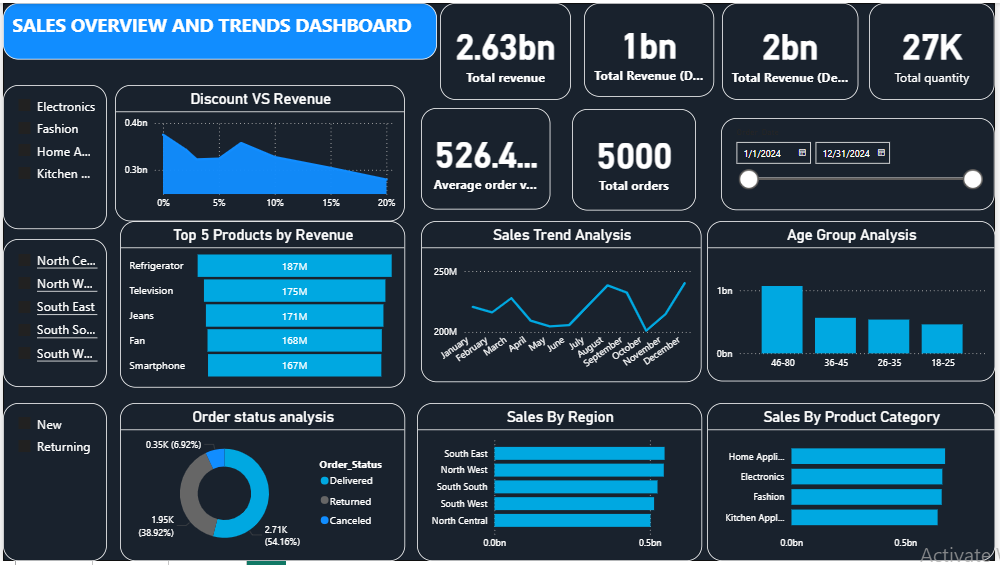

The page's visual inventory and layout, read from the dashboard file:
{"tool":"powerbi","page":{"name":"Page 3","canvas":[1280,720],"ordinal":2},"visuals":[{"type":"card","fields":{"Values":["fixed_sales_dataset_FINAL.Total revenue"]},"box":[564.3,0,169.3,125.2],"z":0},{"type":"donutChart","title":"Order status analysis","fields":{"Category":["fixed_sales_dataset_FINAL.Order_Status"],"Y":["CountNonNull(fixed_sales_dataset_FINAL.Order_ID)"]},"box":[151.4,516.2,367.6,204.1],"z":1000},{"type":"funnel","title":"Top 5 Products by Revenue","fields":{"Category":["fixed_sales_dataset_FINAL.Product_Name"],"Y":["Sum(fixed_sales_dataset_FINAL.Revenue)"]},"box":[151.4,281.1,367.6,214.9],"z":2000},{"type":"areaChart","title":"Discount VS Revenue","fields":{"Category":["fixed_sales_dataset_FINAL.Discount"],"Y":["Sum(fixed_sales_dataset_FINAL.Revenue)"]},"box":[144.6,105.4,374.3,175.7],"z":3000},{"type":"clusteredBarChart","title":"Sales By Product Category","fields":{"Category":["fixed_sales_dataset_FINAL.Product_Category"],"Y":["Sum(fixed_sales_dataset_FINAL.Revenue)"]},"box":[908.1,516.2,371.6,204.1],"z":4000},{"type":"lineChart","title":"Sales Trend Analysis","fields":{"Category":["fixed_sales_dataset_FINAL.Order_Date.Variation.Date Hierarchy.Month"],"Y":["Sum(fixed_sales_dataset_FINAL.Revenue)"]},"box":[539.2,281.1,362.2,208.1],"z":5000},{"type":"columnChart","title":"Age Group Analysis","fields":{"Category":["fixed_sales_dataset_FINAL.Age_group"],"Y":["Sum(fixed_sales_dataset_FINAL.Revenue)"]},"box":[908.1,281.1,371.6,206.8],"z":6000},{"type":"clusteredBarChart","title":"Sales By Region","fields":{"Category":["fixed_sales_dataset_FINAL.Region"],"Y":["Sum(fixed_sales_dataset_FINAL.Revenue)"]},"box":[533.8,516.2,367.6,204.1],"z":7000},{"type":"card","fields":{"Values":["fixed_sales_dataset_FINAL.Total orders"]},"box":[733.6,136.3,159.7,130.8],"z":8000},{"type":"card","fields":{"Values":["fixed_sales_dataset_FINAL.Total quantity"]},"box":[1117.6,0,162.4,125.2],"z":9000},{"type":"card","fields":{"Values":["fixed_sales_dataset_FINAL.Average order value"]},"box":[539.5,134.9,166.5,130.8],"z":10000},{"type":"slicer","fields":{"Values":["fixed_sales_dataset_FINAL.Region"]},"box":[0,304.2,133.5,191.3],"z":11000},{"type":"slicer","fields":{"Values":["fixed_sales_dataset_FINAL.Order_Date"]},"box":[927,148.6,352.7,118.9],"z":12000},{"type":"slicer","fields":{"Values":["fixed_sales_dataset_FINAL.Customer_Type"]},"box":[0,516.1,133.5,203.7],"z":13000},{"type":"slicer","fields":{"Values":["fixed_sales_dataset_FINAL.Product_Category"]},"box":[0,106,133.5,185.8],"z":14000},{"type":"textbox","box":[0,0,560.2,72.9],"z":15000},{"type":"card","fields":{"Values":["fixed_sales_dataset_FINAL.Total Revenue (Delivered)"]},"box":[750.1,0,167.9,121.1],"z":16000},{"type":"card","fields":{"Values":["fixed_sales_dataset_FINAL.Total Revenue (Delivered + Returned)"]},"box":[927.7,0,176.2,125.2],"z":17000}]}

Visuals, with their boxes in screenshot pixels (x1, y1, x2, y2), scaled from the page's 1280x720 canvas onto the 1000x565 screenshot:
card - fixed_sales_dataset_FINAL.Total revenue: [441,0,573,98]
"Order status analysis" donutChart: [118,405,405,564]
"Top 5 Products by Revenue" funnel: [118,221,405,389]
"Discount VS Revenue" areaChart: [113,83,405,221]
"Sales By Product Category" clusteredBarChart: [709,405,999,564]
"Sales Trend Analysis" lineChart: [421,221,704,384]
"Age Group Analysis" columnChart: [709,221,999,383]
"Sales By Region" clusteredBarChart: [417,405,704,564]
card - fixed_sales_dataset_FINAL.Total orders: [573,107,698,210]
card - fixed_sales_dataset_FINAL.Total quantity: [873,0,999,98]
card - fixed_sales_dataset_FINAL.Average order value: [421,106,552,209]
slicer - fixed_sales_dataset_FINAL.Region: [0,239,104,389]
slicer - fixed_sales_dataset_FINAL.Order_Date: [724,117,999,210]
slicer - fixed_sales_dataset_FINAL.Customer_Type: [0,405,104,564]
slicer - fixed_sales_dataset_FINAL.Product_Category: [0,83,104,229]
textbox: [0,0,438,57]
card - fixed_sales_dataset_FINAL.Total Revenue (Delivered): [586,0,717,95]
card - fixed_sales_dataset_FINAL.Total Revenue (Delivered + Returned): [725,0,862,98]
